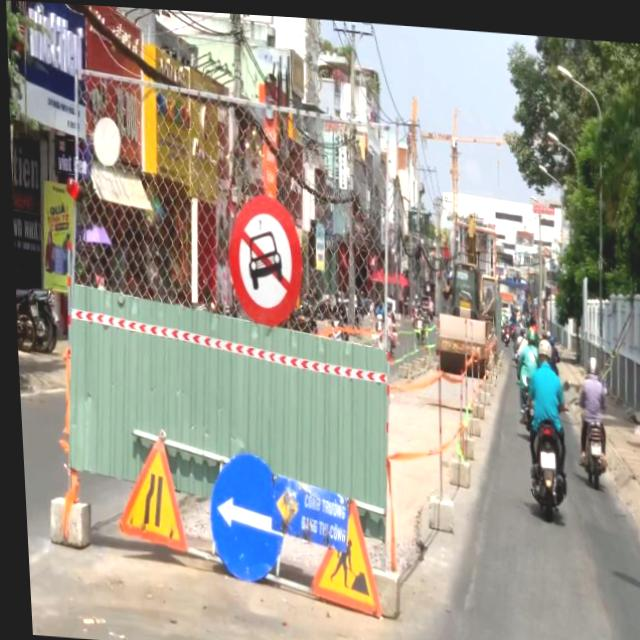Cac xe chi duoc re trai: (203, 444, 280, 578)
Cam xe oto: (225, 185, 304, 324)
